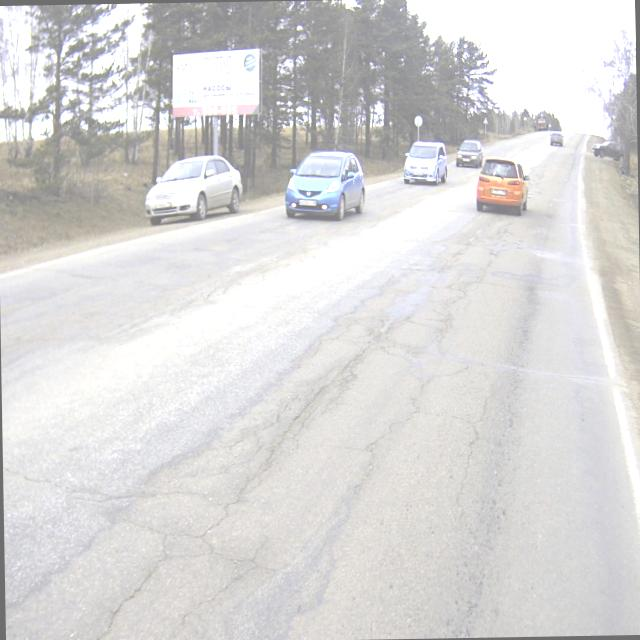road: (0, 130, 640, 640)
